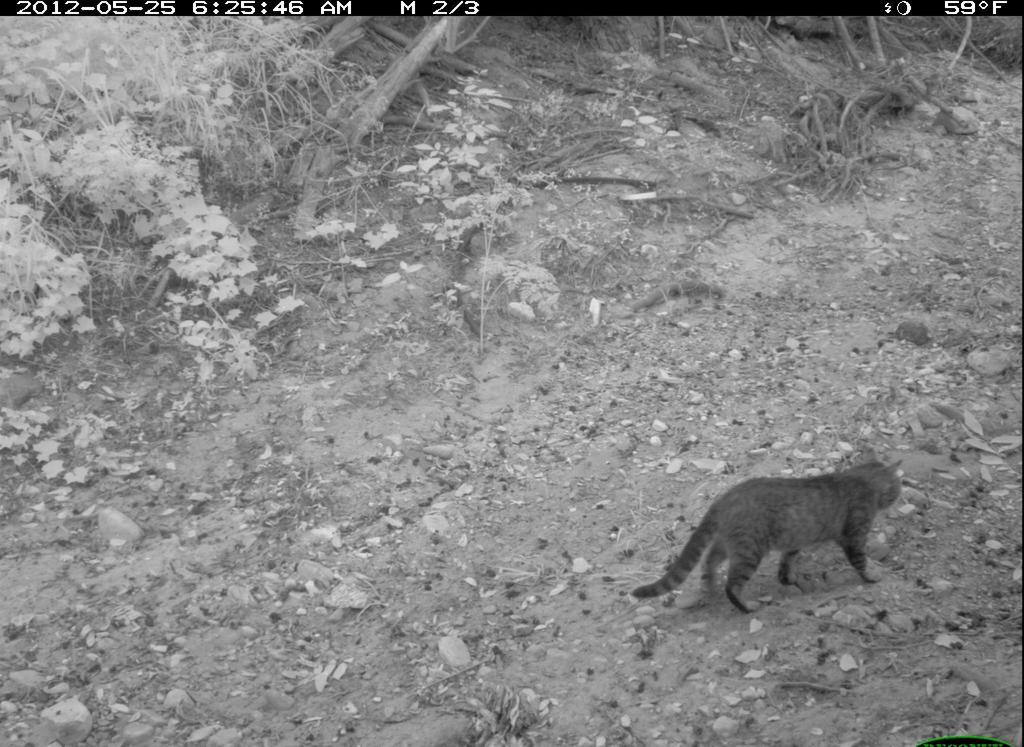cat: (625, 451, 911, 626)
